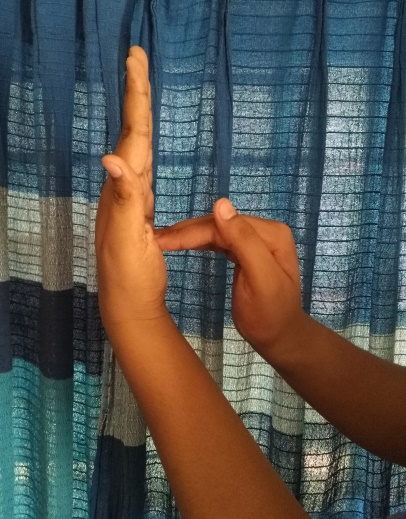ga: (91, 42, 310, 356)
